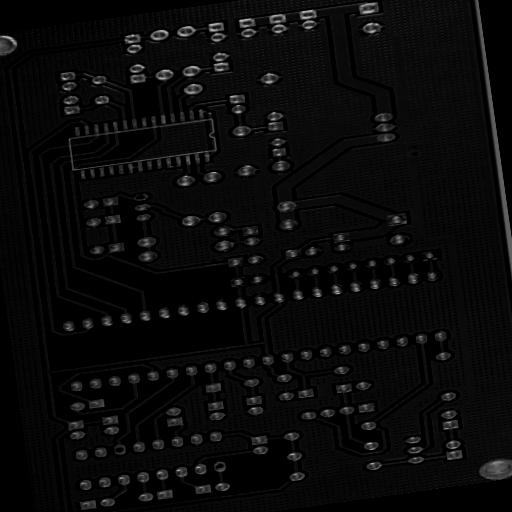missing_hole: (131, 193, 148, 202), (213, 462, 226, 472), (112, 445, 125, 455)
